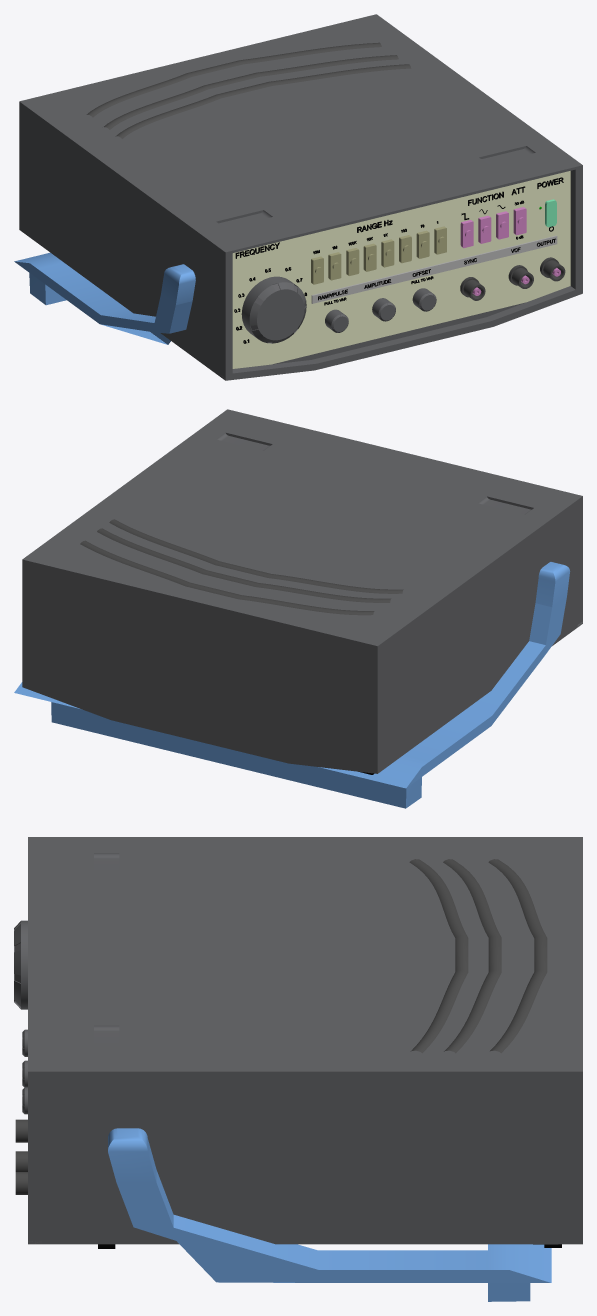
Rendered from function_generator.fbx.
3 renders of one model, top to bottom at view 1: azimuth 30°, elevation 25°; view 2: azimuth 150°, elevation 25°; view 3: azimuth 270°, elevation 25°, orthographic. The views are drawn at different scales.
Visible parts, largest first — view 1: Cube, Cube.003, Cube.011, Cylinder, Cylinder.030, Plane, BezierCurve.004, BezierCurve.005, BezierCurve.006, Cylinder.034; view 2: Cube, Cube.011, BezierCurve.006, BezierCurve.005, BezierCurve.004, Cube.005; view 3: Cube, Cube.011, BezierCurve.005, BezierCurve.006, BezierCurve.004, Cube.005, Cylinder.
Part boxes in pixels (x1=…): Cube: x1=19, y1=14, x2=582, y2=380; Cube.003: x1=232, y1=171, x2=570, y2=368; Cube.011: x1=14, y1=252, x2=195, y2=344; Cylinder: x1=241, y1=276, x2=306, y2=343; Cylinder.030: x1=311, y1=226, x2=446, y2=284; Plane: x1=311, y1=235, x2=557, y2=303; BezierCurve.004: x1=86, y1=42, x2=381, y2=117; BezierCurve.005: x1=104, y1=55, x2=398, y2=129; BezierCurve.006: x1=115, y1=64, x2=411, y2=138; Cylinder.034: x1=460, y1=207, x2=526, y2=248; Cube: x1=22, y1=409, x2=582, y2=773; Cube.011: x1=14, y1=562, x2=570, y2=808; BezierCurve.006: x1=109, y1=519, x2=403, y2=593; BezierCurve.005: x1=97, y1=528, x2=390, y2=602; BezierCurve.004: x1=80, y1=540, x2=374, y2=615; Cube.005: x1=382, y1=689, x2=480, y2=769; Cube: x1=28, y1=837, x2=582, y2=1244; Cube.011: x1=108, y1=1128, x2=551, y2=1301; BezierCurve.005: x1=443, y1=859, x2=501, y2=1053; BezierCurve.006: x1=409, y1=859, x2=468, y2=1053; BezierCurve.004: x1=488, y1=859, x2=547, y2=1053; Cube.005: x1=305, y1=1230, x2=582, y2=1244; Cylinder: x1=14, y1=920, x2=27, y2=1009.
Bounding box in the file's own units: 446 × 192 × 414.
